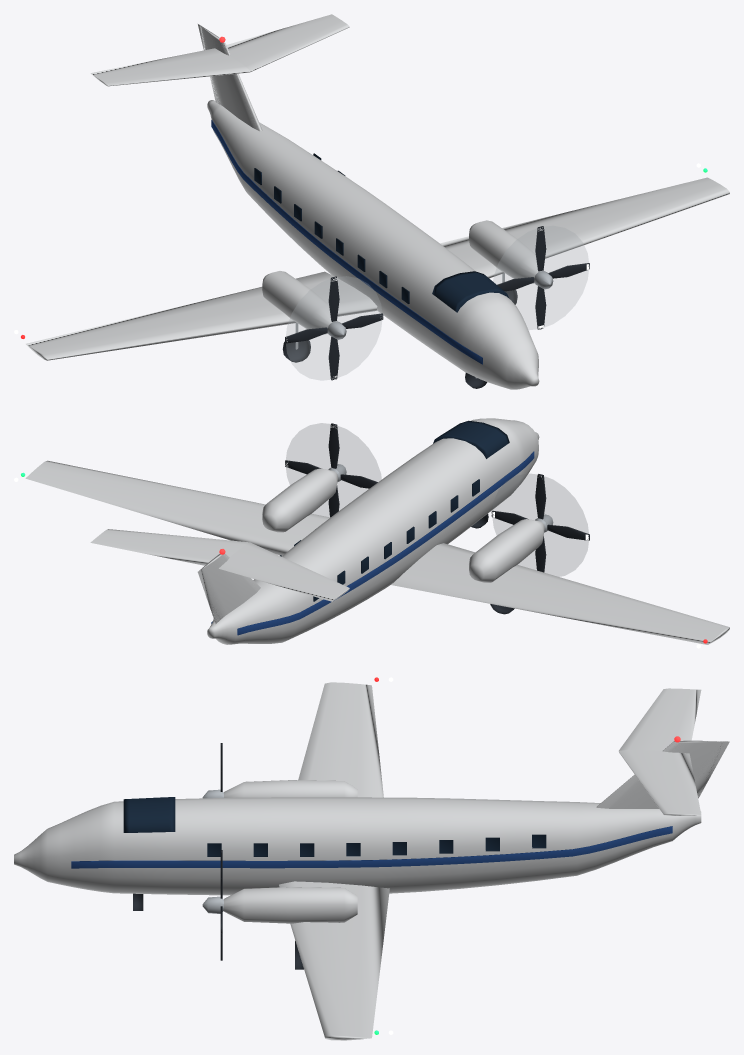
The model's file is kingair.glb.
3 renders of one model, top to bottom at view 1: azimuth 30°, elevation 25°; view 2: azimuth 150°, elevation 25°; view 3: azimuth 270°, elevation 25°, orthographic. The views are drawn at different scales.
Visible parts, largest first — view 1: body, disc0, disc1, prop0, prop1; view 2: body, disc0, disc1, prop0, prop1; view 3: body, prop1.
Part boxes in pixels (<box>): body: <box>26,14,729,389</box>; disc0: <box>286,276,381,380</box>; disc1: <box>493,226,588,329</box>; prop0: <box>285,276,383,380</box>; prop1: <box>497,226,589,329</box>; body: <box>25,418,729,644</box>; disc0: <box>492,473,588,576</box>; disc1: <box>286,423,381,516</box>; prop0: <box>491,474,589,572</box>; prop1: <box>285,423,377,517</box>; body: <box>14,682,729,1040</box>; prop1: <box>202,850,223,960</box>.
Bounding box in the file's own units: 17.6 × 4.11 × 15.
